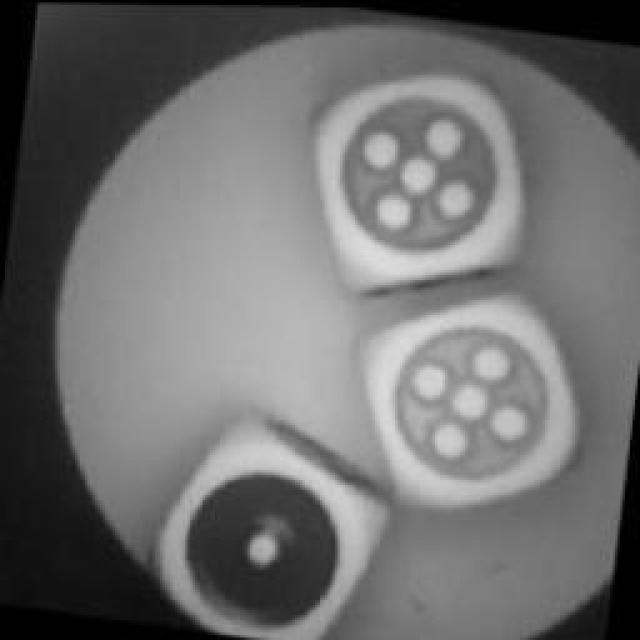dice_1: (140, 415, 392, 640)
dice_5: (328, 270, 602, 525), (289, 45, 549, 305)
